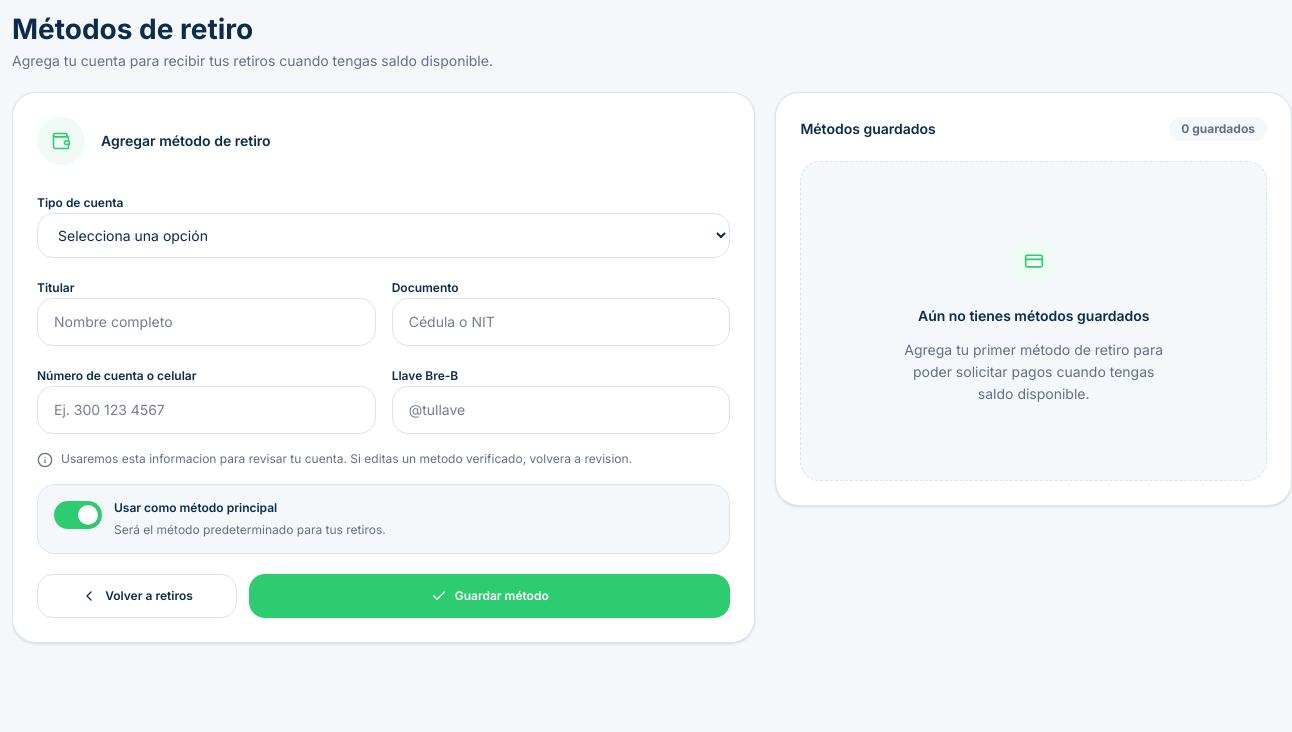
it: PayoutAccountsManager › renders the simplified empty state with the requested fields
Check: the heading "Métodos de retiro" is shown, box [12,12,253,46]
Check: the text "Agrega tu cuenta para recibir tus retiros cuando tengas saldo disponible." is shown, box [12,52,493,69]
Step 1. Select "Cuenta de ahorros" in the dropdown labelled "Tipo de cuenta" → [384, 236], box [37,213,730,258]
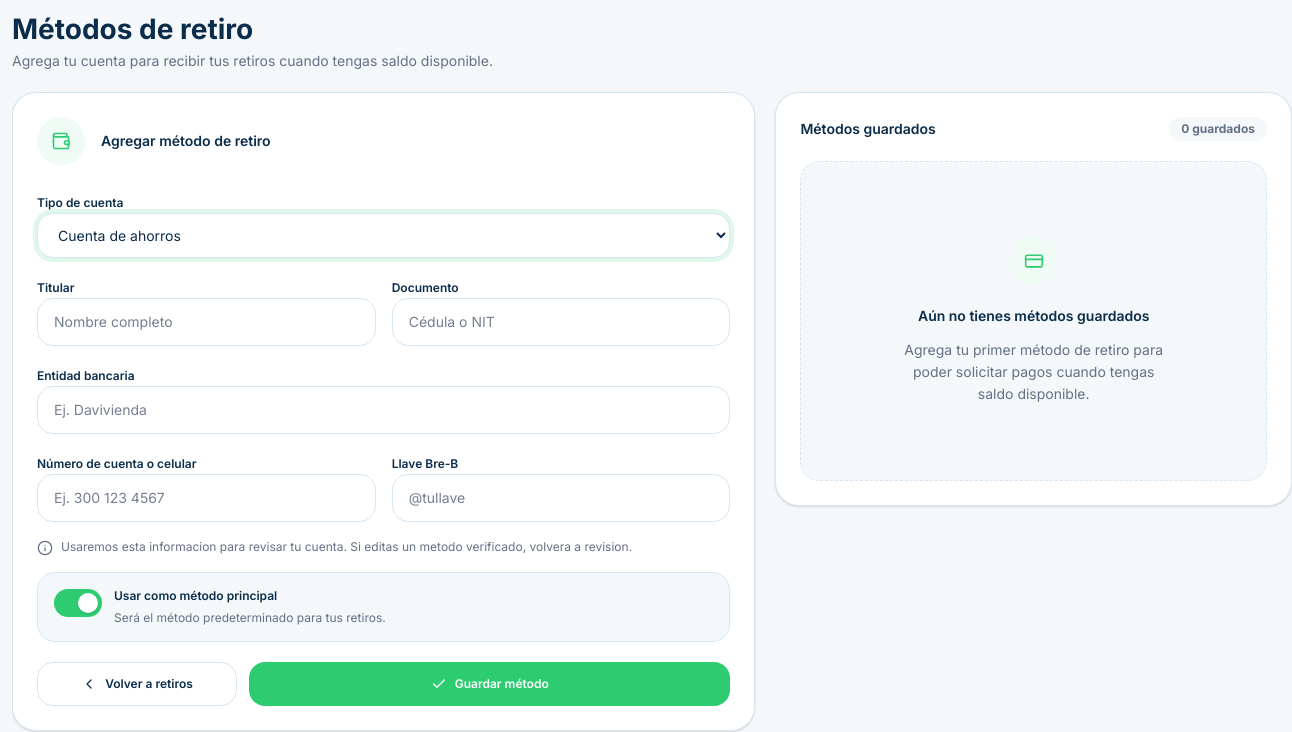
Check: the text "Usaremos esta informacion para revisar tu cuenta. Si editas un metodo verificado, volvera a revision." is shown, box [61,539,632,554]
Check: the field labelled "Entidad bancaria" is shown, box [37,386,730,434]
